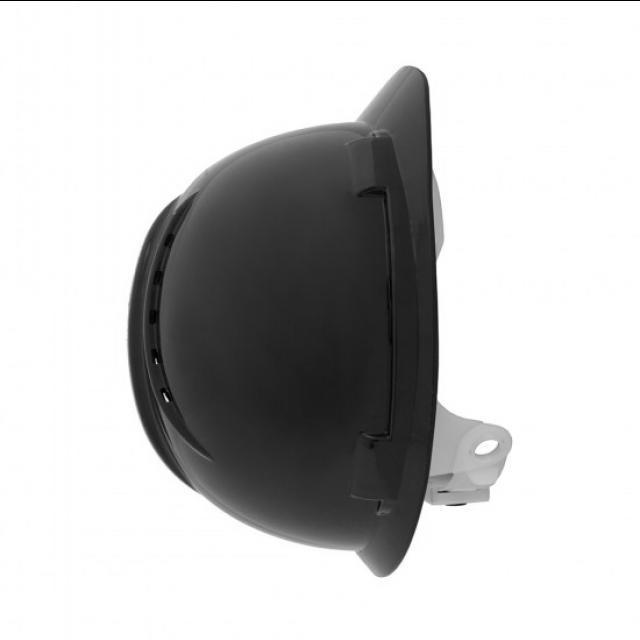safety_helmet: (128, 63, 515, 578)
